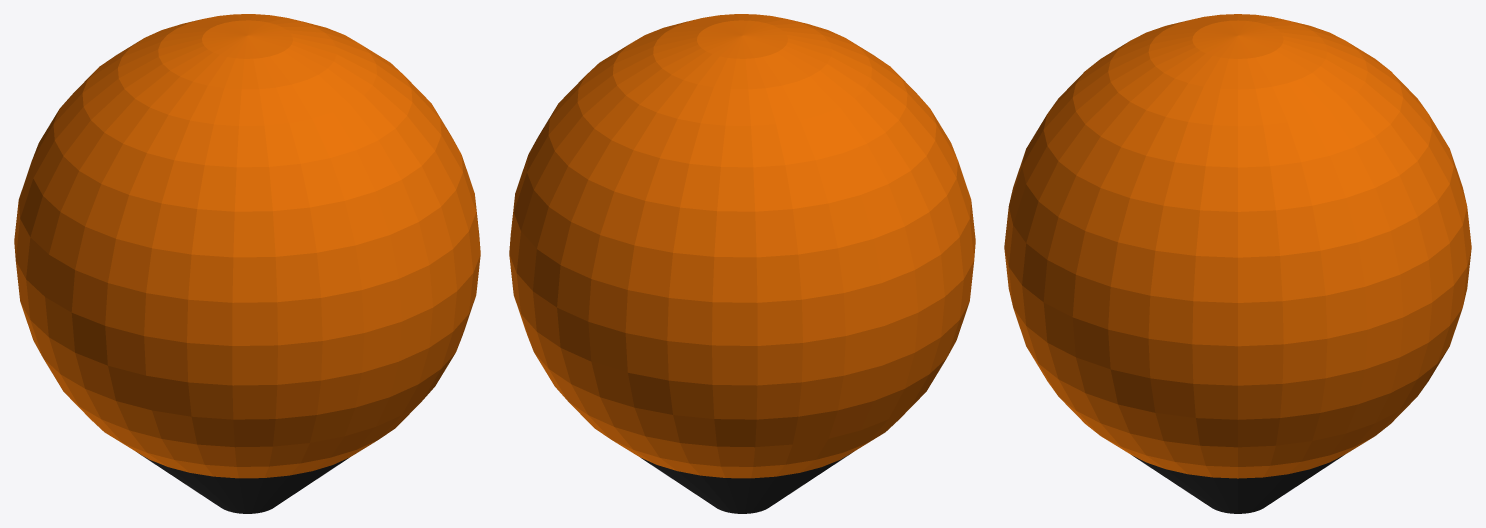
File: bouy.dae
3 renders of one model, left to right at view 1: azimuth 30°, elevation 25°; view 2: azimuth 150°, elevation 25°; view 3: azimuth 270°, elevation 25°, orthographic.
Parts seen in each view (by area): view 1: Sphere, Sphere_001; view 2: Sphere, Sphere_001; view 3: Sphere, Sphere_001.
Part boxes in pixels (x1,y1,x2,y2): Sphere: [14, 14, 480, 478]; Sphere_001: [137, 452, 349, 513]; Sphere: [509, 14, 975, 478]; Sphere_001: [640, 452, 852, 513]; Sphere: [1004, 14, 1471, 478]; Sphere_001: [1132, 455, 1343, 513].
Bounding box in the file's own units: 2 × 2 × 2.22.
